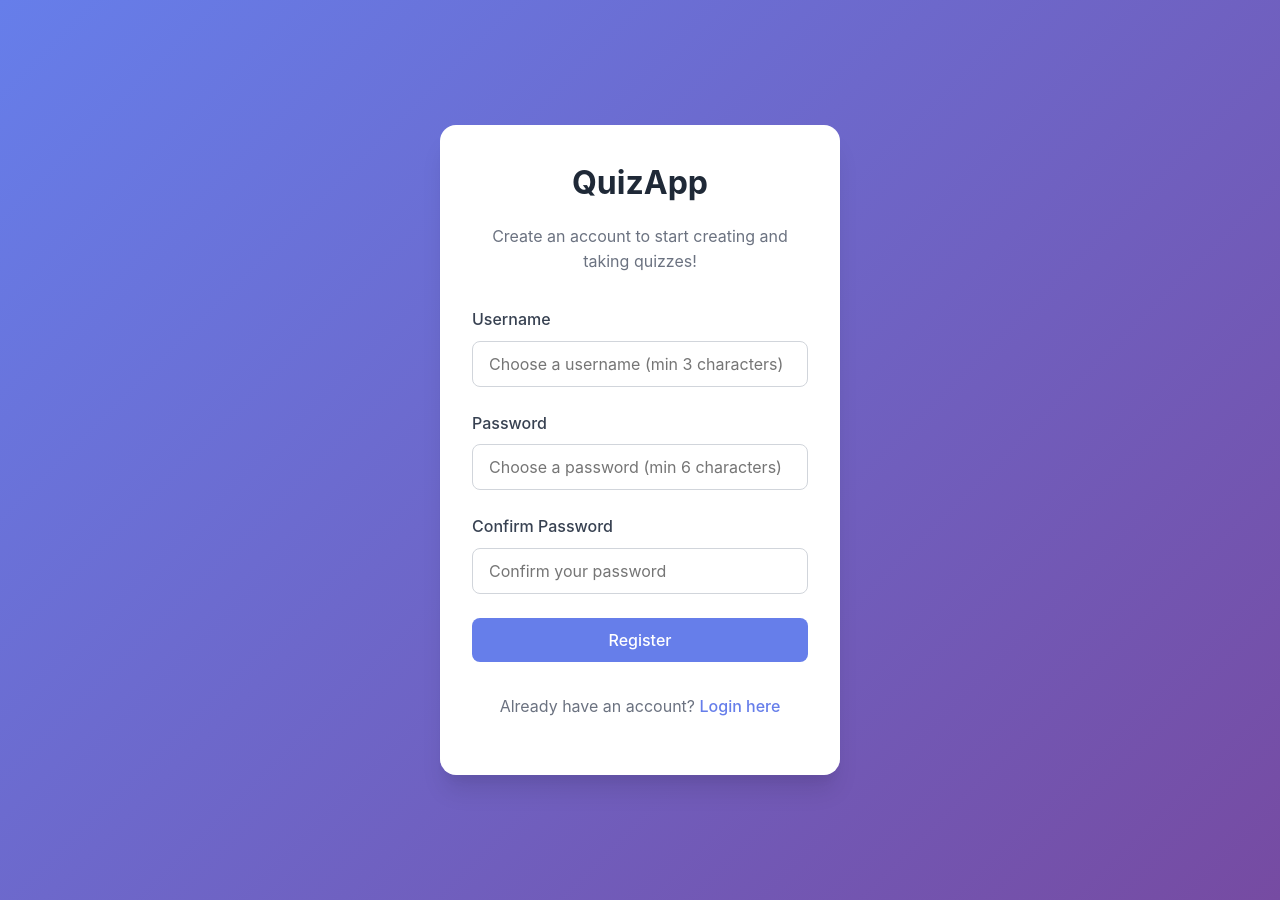
Test: Register › shows error when password is too short
Type "testuser" into the field labelled "Username".
click(640, 364); type("testuser")  # box [472,341,808,387]
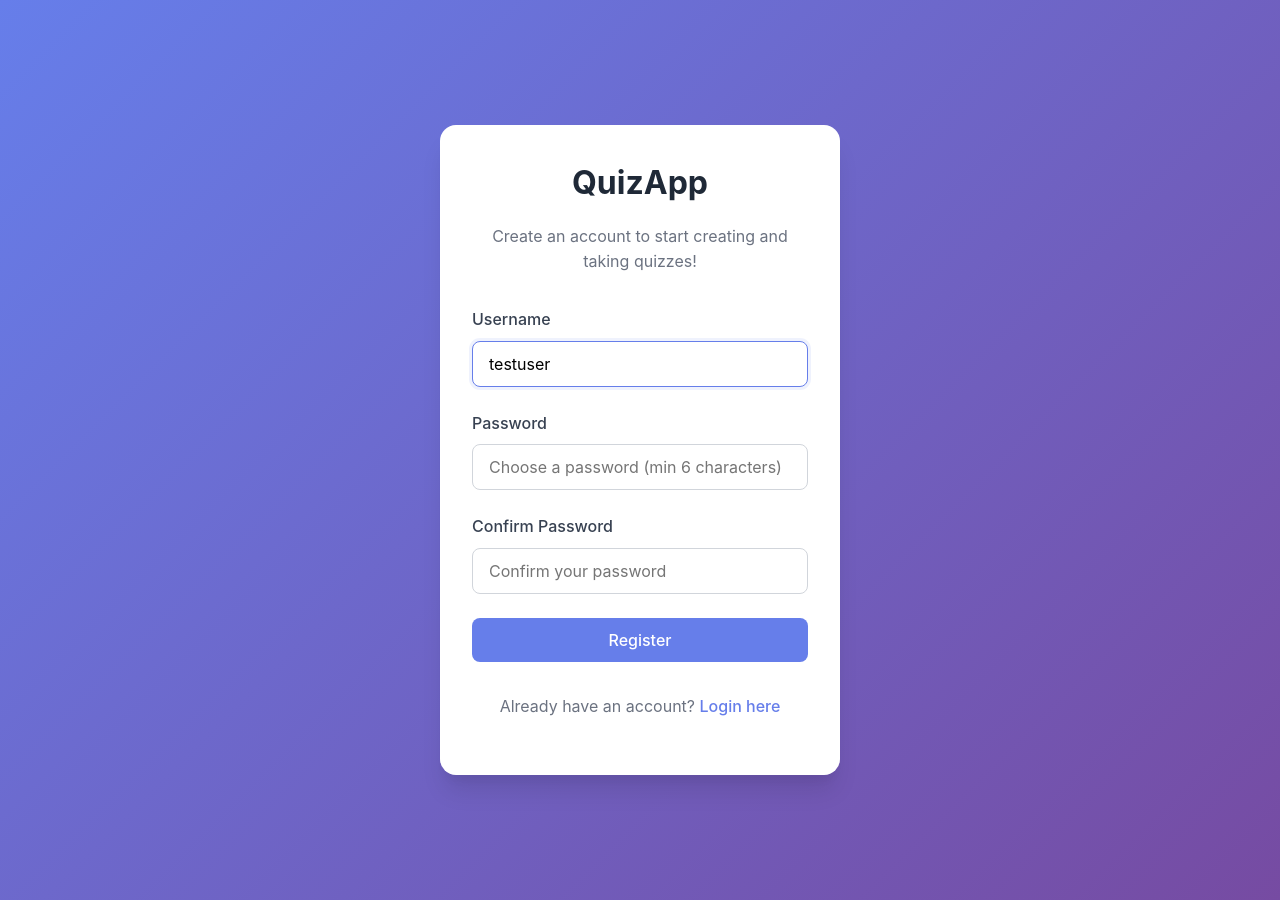
Type "12345" into the password field labelled "Password".
click(640, 467); type("12345")  # box [472,444,808,490]
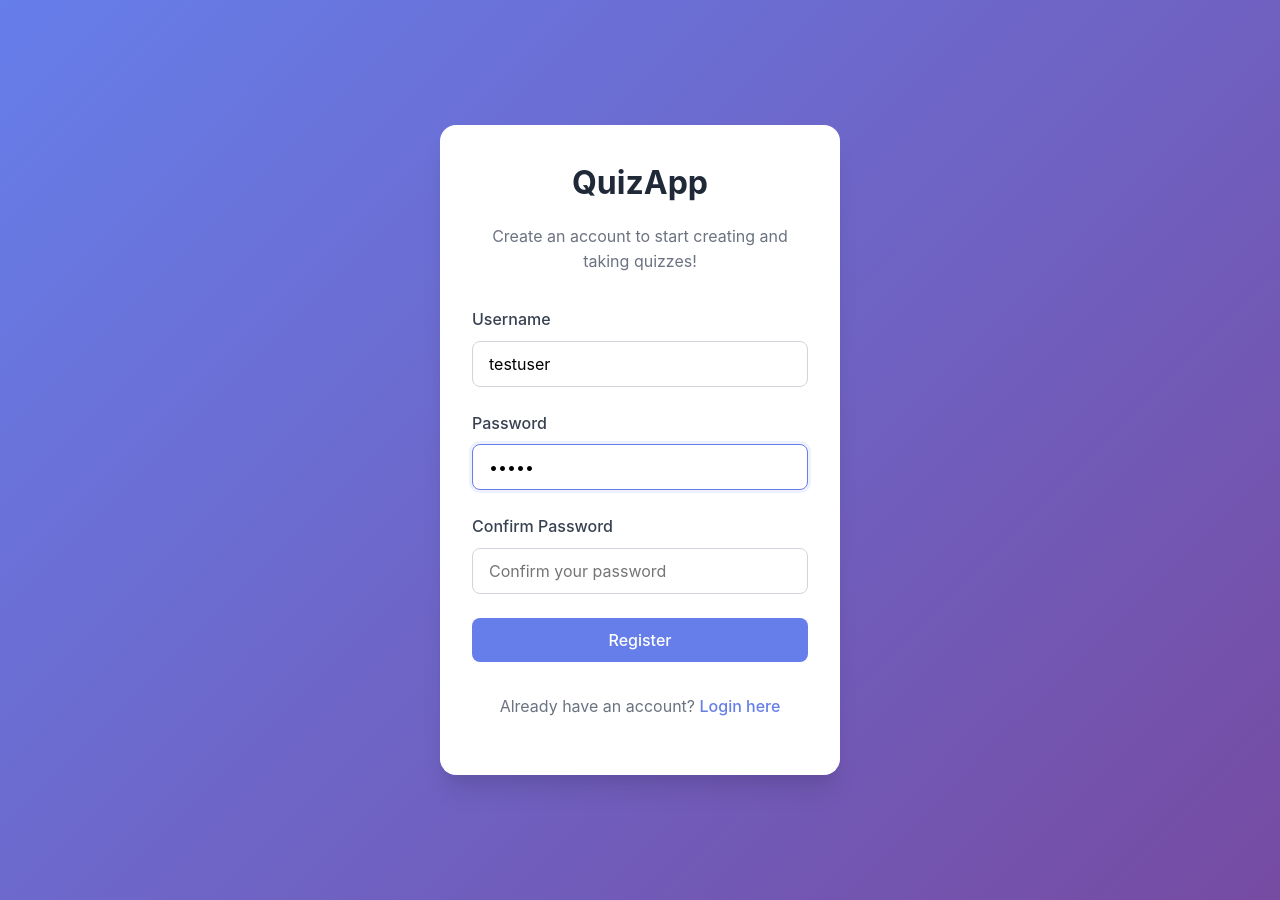
Click the button "Register".
click(640, 640)  # box [472,618,808,662]
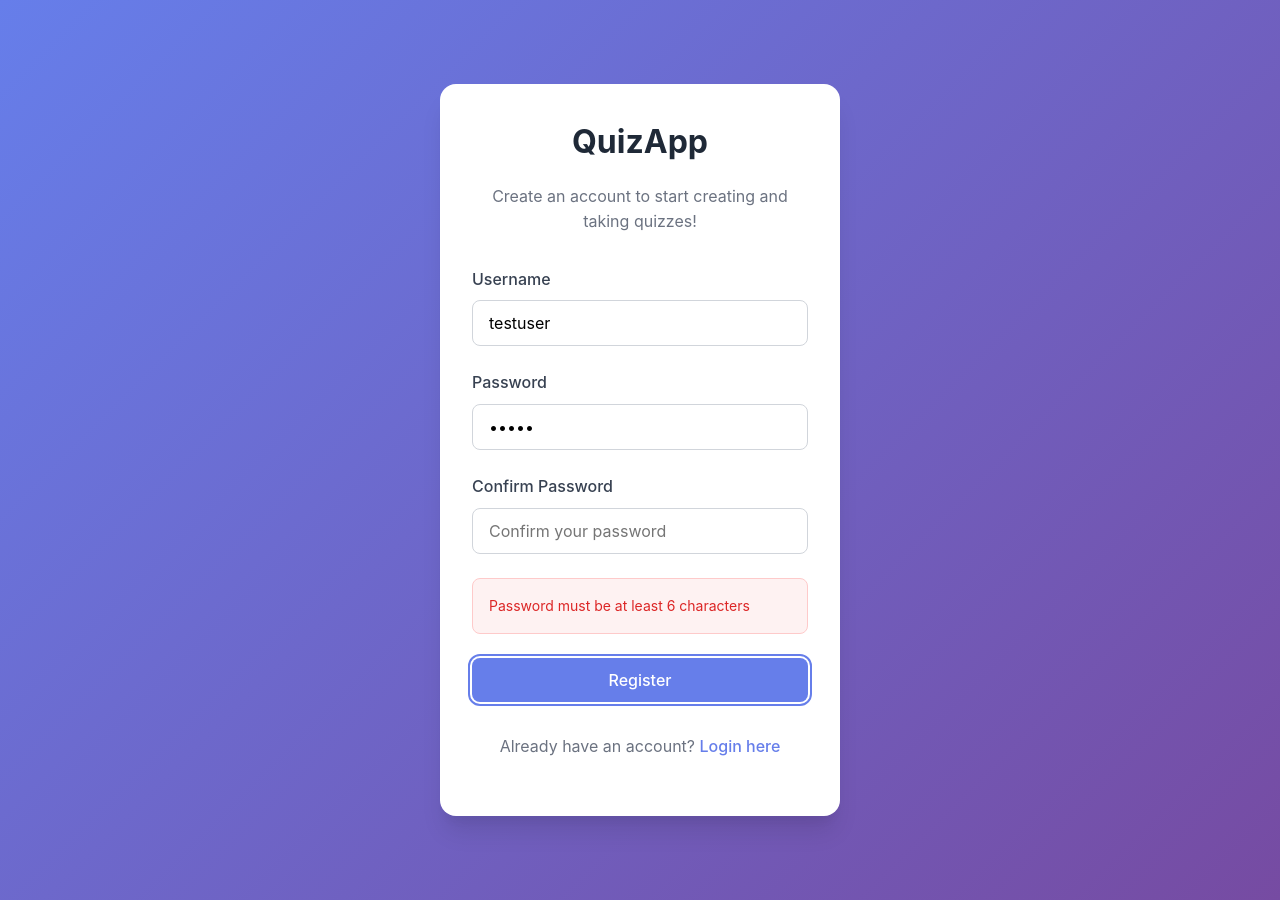
Now the message reads "Password must be at least 6 characters", box [489,597,750,614]
